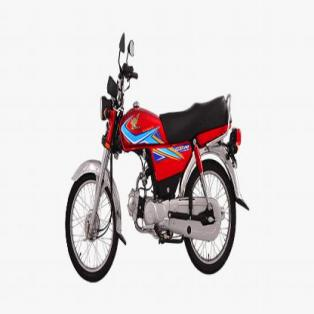Motocicleta: (60, 27, 251, 287)
